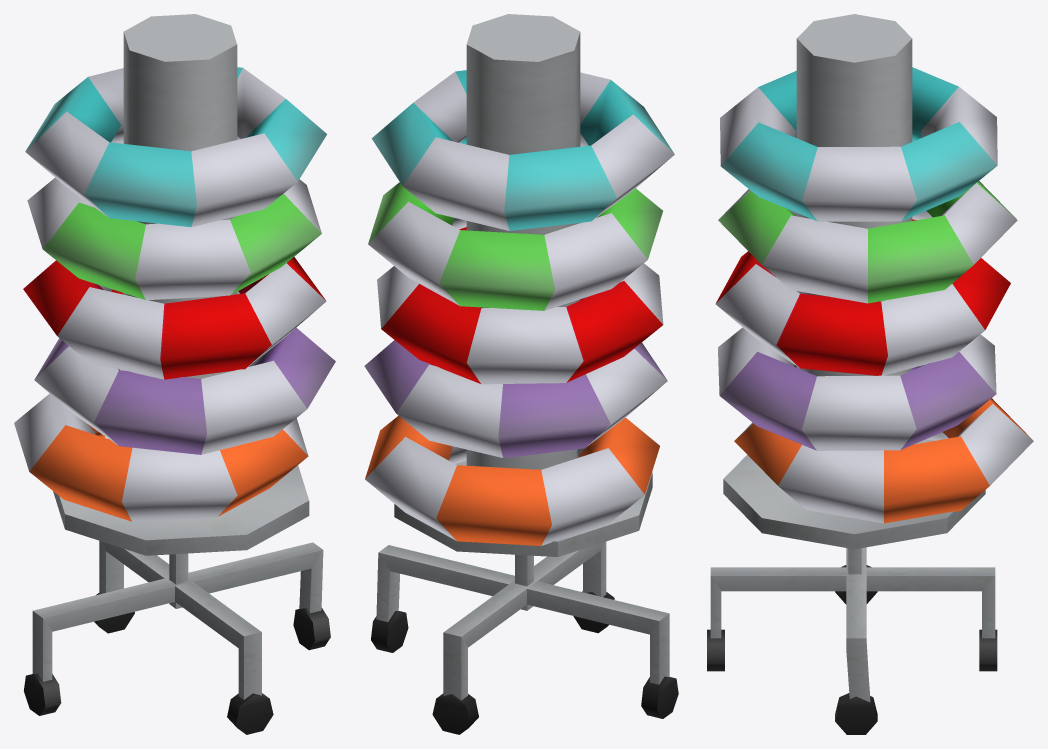
File: RubbeRing_Stand_02.FBX
3 renders of one model, left to right at view 1: azimuth 30°, elevation 25°; view 2: azimuth 150°, elevation 25°; view 3: azimuth 270°, elevation 25°, orthographic.
Parts seen in each view (by area): view 1: RubbeRing_Stand_02; view 2: RubbeRing_Stand_02; view 3: RubbeRing_Stand_02.
Boxes of the visible parts, x1,y1,x2,y2 form: RubbeRing_Stand_02: (14, 14, 335, 734); RubbeRing_Stand_02: (364, 14, 678, 734); RubbeRing_Stand_02: (707, 14, 1033, 734).
Size of the model in its own units: 0.5277 by 0.5322 by 1.13.
